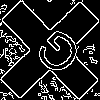G: (25, 25, 86, 86)
